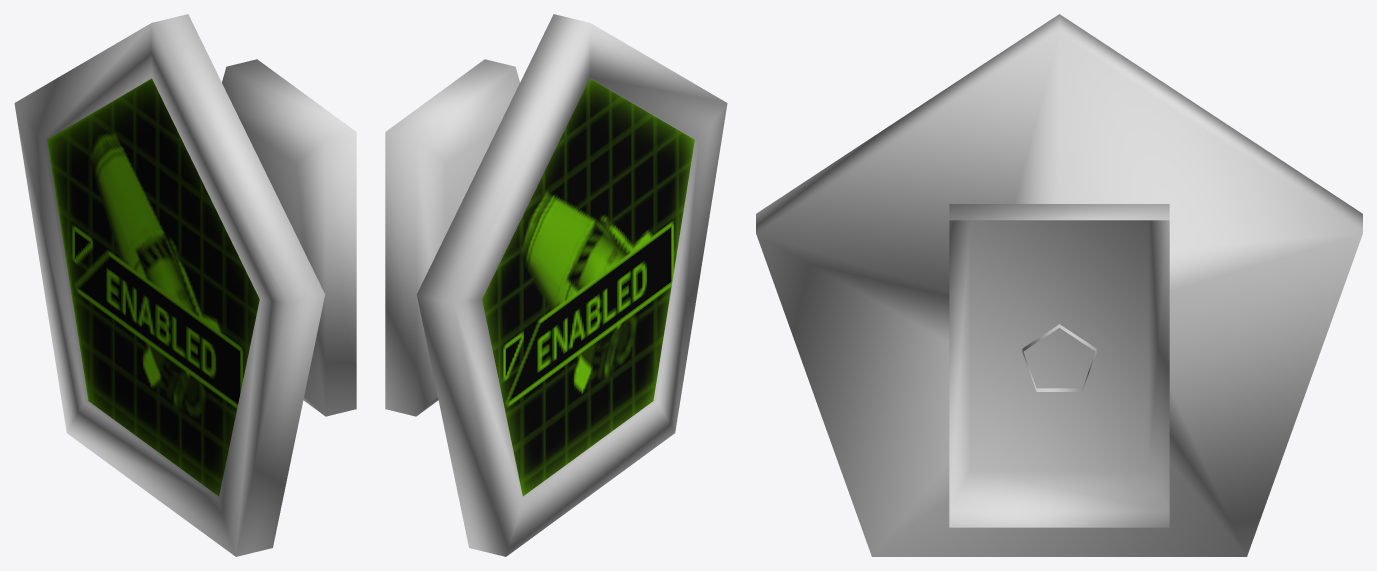
File: RocketMonitor.fbx
The picture shows the model from 3 angles, left to right: view 1: azimuth 30°, elevation 25°; view 2: azimuth 150°, elevation 25°; view 3: azimuth 270°, elevation 25°; orthographic projection. The views are drawn at different scales.
Parts seen in each view (by area): view 1: RocketMonitor_low, RocketMonitor_On; view 2: RocketMonitor_low, RocketMonitor_On; view 3: RocketMonitor_low.
Part boxes in pixels (x1,y1,x2,y2): RocketMonitor_low: [14, 14, 356, 556]; RocketMonitor_On: [47, 78, 259, 496]; RocketMonitor_low: [385, 14, 727, 556]; RocketMonitor_On: [482, 78, 694, 496]; RocketMonitor_low: [756, 14, 1362, 556].
Size of the model in its own units: 0.6234 by 1.81 by 1.9.
Materials: 2 (1 with a texture image).
